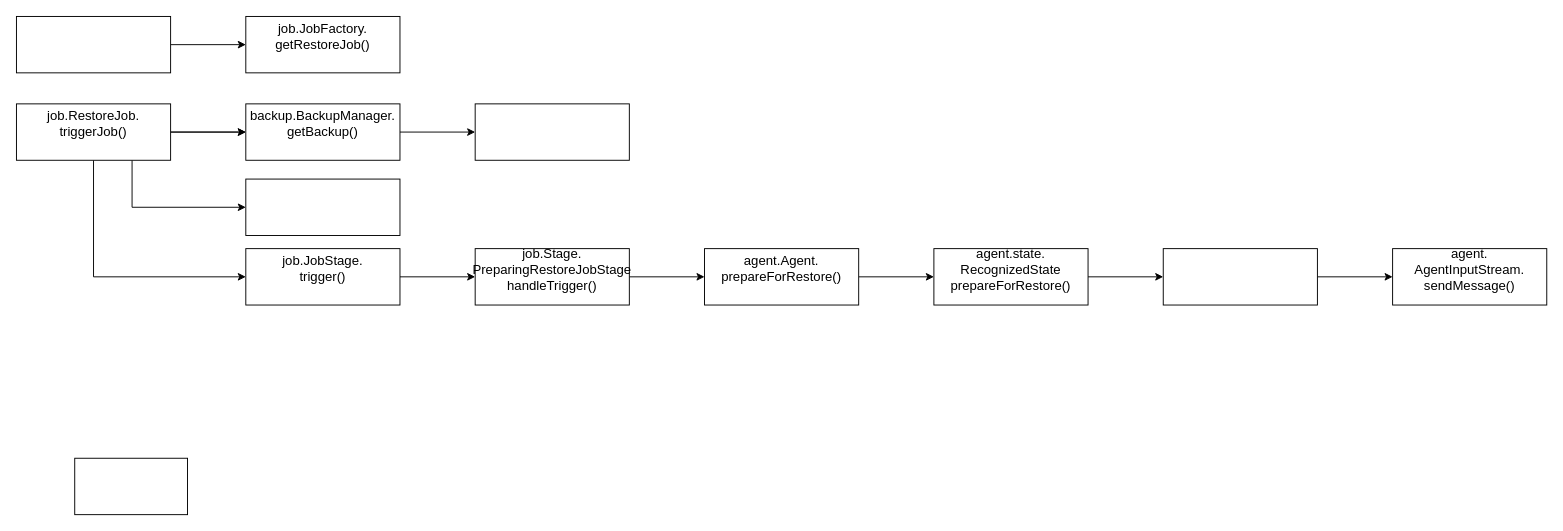
This 1563x531 diagram has some shape labels left out. The centre of each missing label's shape, as x and y in pixels:
"agent. AgentInputStream. prepareForRestore()" belongs at [1239,276].
"backup.BackupManager. getBackups()" belongs at [551,131].
"job.JobFactory. createJob()" belongs at [93,44].
"job.RestoreJob. validate()" belongs at [322,206].
